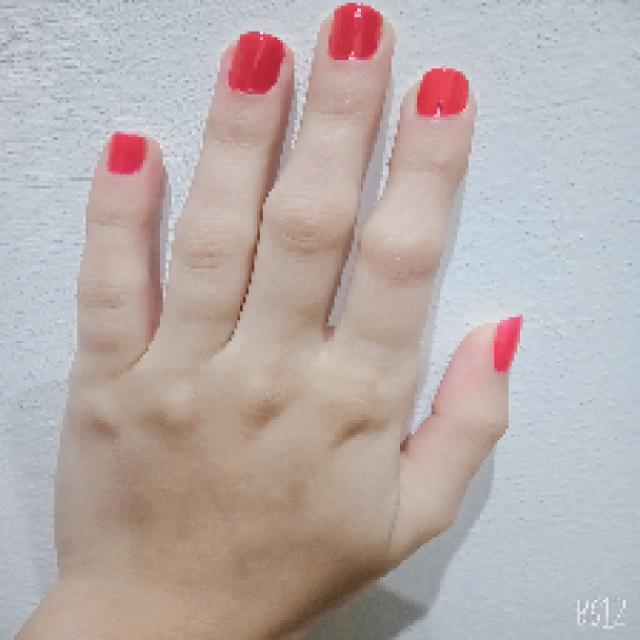Nail: (229, 31, 285, 94), (329, 5, 382, 60), (418, 69, 469, 118), (108, 132, 146, 174), (494, 316, 522, 372)
